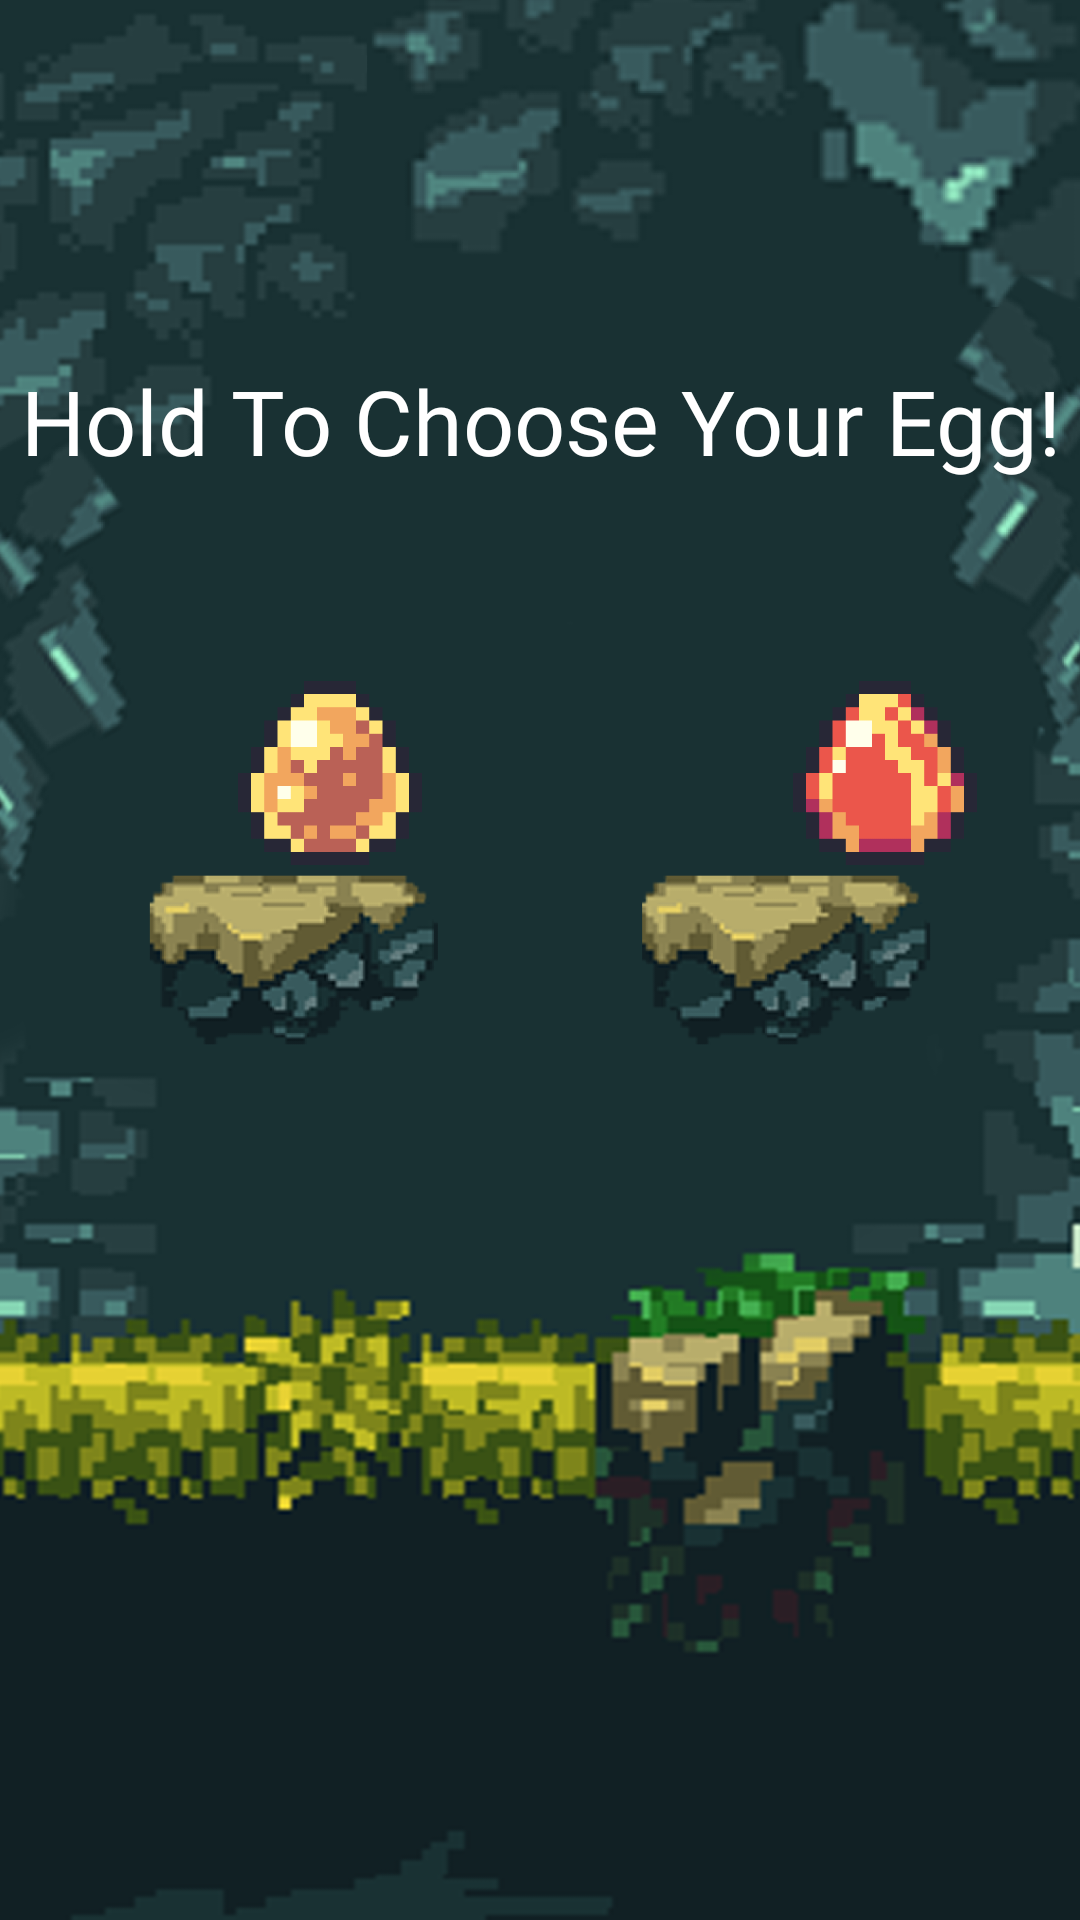

Screen size 1080px×1920px. Icon name, then its box in pixels as (x1, y1, x2, y2):
egg: (251, 694, 409, 852), (806, 694, 964, 852)
